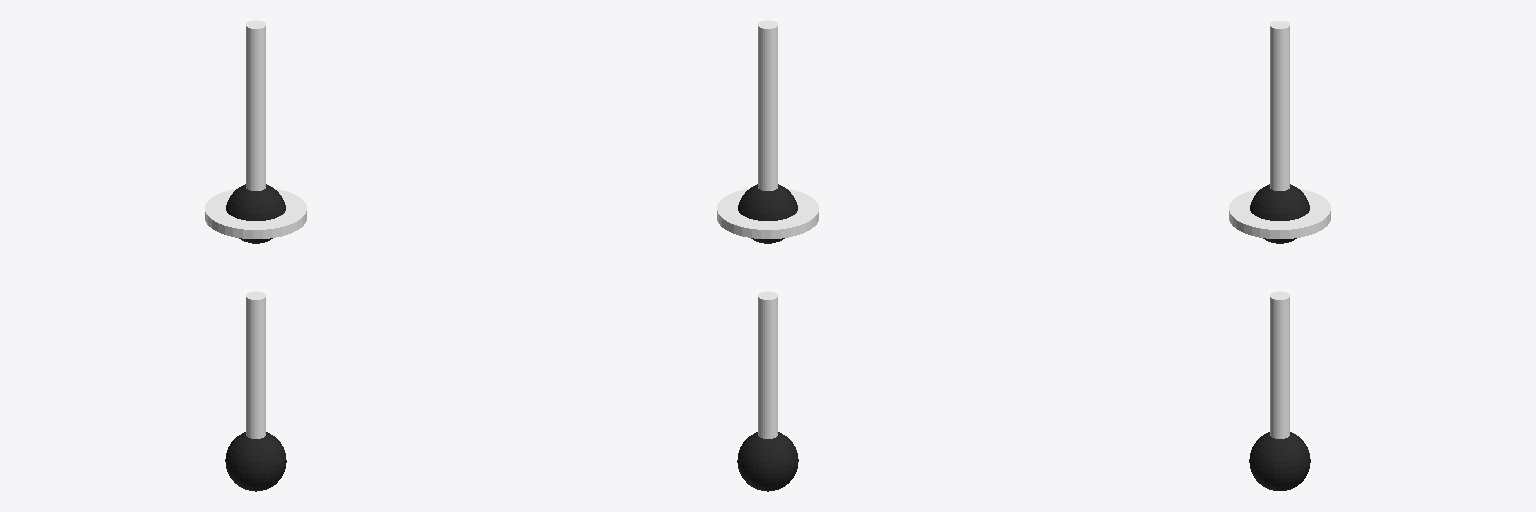
The robot description file, URDF, robot "arm":
<?xml version="1.0"?>
<robot name="arm">

  <!--Links-->
  <link name="base_link">
    <visual>
      <geometry>
        <cylinder length="0.01" radius="0.05"/>
      </geometry>
      <material name="white">
        <color rgba="1 1 1 1"/>
      </material>
    </visual>
  </link>

  <link name="link1">
    <visual>
      <geometry>
        <cylinder length="0.203" radius = "0.01"/>
      </geometry>
      <material name="white">
        <color rgba="1 1 1 1"/>
      </material>
      <origin xyz="0 0 0" rpy = "0 0 0"/>
    </visual>
  </link>

  <link name="link2">
     <visual>
      <geometry>
        <cylinder length="0.178" radius = "0.01"/>
      </geometry>
      <material name="white">
        <color rgba="1 1 1 1"/>
      </material>
      <origin xyz="0 0 0" rpy = "0 0 0"/>
    </visual>
  </link>  

  <link name="link3">
     <visual>
      <geometry>
        <cylinder length="0.178" radius = "0.01"/>
      </geometry>
      <material name="white">
        <color rgba="1 1 1 1"/>
      </material>
      <origin xyz="0 0 0" rpy = "0 0 0"/>
    </visual>
  </link>

  <link name="link4">
     <visual>
      <geometry>
        <cylinder length="0.178" radius = "0.01"/>
      </geometry>
      <material name="white">
        <color rgba="1 1 1 1"/>
      </material>
      <origin xyz="0 0 0" rpy = "0 0 0"/>
    </visual>
  </link>

  <link name="tool0"/>

  <link name="joint_1">
    <visual>
      <geometry>
       <sphere radius="0.03"/>
      </geometry>
      <material name="gray">
        <color rgba="0.2 0.2 0.2 1"/>
      </material>
        <origin xyz="0 0 0" rpy = "0 0 0"/>
    </visual>
  </link>
  
  <link name="joint_2">
    <visual>
      <geometry>
       <sphere radius="0.03"/>
      </geometry>  
      <material name="gray">
        <color rgba="0.2 0.2 0.2 1"/>
      </material>
      <origin xyz="0 0 0" rpy = "0 0 0"/>
    </visual>
  </link>
  <link name="joint_3">
    <visual>
      <geometry>
       <sphere radius="0.03"/>
      </geometry>  
      <material name="gray">
        <color rgba="0.2 0.2 0.2 1"/>
      </material>
      <origin xyz="0 0 0" rpy = "0 0 0"/>
    </visual>
  </link>

  <link name="joint_4">
    <visual>
      <geometry>
       <sphere radius="0.03"/>
      </geometry>  
      <material name="gray">
        <color rgba="0.2 0.2 0.2 1"/>
      </material>
      <origin xyz="0 0 0" rpy = "0 0 0"/>
    </visual>
  </link>
  
  <!--Joints-->
  <joint name="joint_1" type="revolute">
    <axis xyz="0 0 1"/>
    <parent link="base_link"/>
    <child link="joint_1"/>
    <origin xyz="0 0 0" rpy = "0 0 0"/>
    <limit effort="1000.0" lower="-1.62" upper="1.62" velocity="0.5"/>
  </joint>
  
  <joint name="joint_2" type="revolute">
    <axis xyz="0 0 1"/>
    <parent link="joint_1"/>
    <child link="joint_2"/>
    <origin xyz="0 0 0" rpy = "0 0 0"/>
    <limit effort="1000.0" lower="-0.96" upper="2.182" velocity="0.5"/>
  </joint>

  <joint name="joint_3" type="prismatic">
    <axis xyz="0 0 1"/>
    <parent link="joint_2"/>
    <child link="joint_3"/>
    <origin xyz="0 0 0" rpy = "0 0 0"/>
    <limit effort="1000.0" lower="-0.356" upper="-0.178" velocity="0.5"/>
  </joint>

  <joint name="joint_4" type="revolute">
    <axis xyz="0 1 0"/>
    <parent link="joint_3"/>
    <child link="joint_4"/>
    <origin xyz="0 0 0" rpy = "0 0 0"/>
    <limit effort="1000.0" lower="-1.62" upper="1.62" velocity="0.5"/>
  </joint>

  <joint name="link1_to_joint_1" type="fixed">
    <parent link="joint_1"/>
    <child link="link1"/>
    <origin xyz="0 0 0.1015" rpy = "0 0 0"/>
  </joint>

  <joint name="link2_to_joint_2" type="fixed">
    <parent link="joint_2"/>
    <child link="link2"/>
    <origin xyz="0 0 0.089" rpy = "0 0 0"/>
  </joint>

 <joint name="link3_to_joint_3" type="fixed">
    <parent link="joint_3"/>
    <child link="link3"/>
    <origin xyz="0 0 0.089" rpy = "0 0 0"/>
  </joint>
  
 <joint name="link4_to_joint_4" type="fixed">
    <parent link="joint_4"/>
    <child link="link4"/>
    <origin xyz="0 0 0.089" rpy = "0 0 0"/>
  </joint>

  <joint name="joint_4_to_tool0" type="fixed">
    <parent link="joint_4"/>
    <child link="tool0"/>
    <origin xyz="0 0 0" rpy = "0 0 0"/>
  </joint>


</robot>

--- What the picture shows (computed from the rendered views, not written in the file) ---
3 views of the same robot in one strip: view 1: azimuth 30°, elevation 25°; view 2: azimuth 150°, elevation 25°; view 3: azimuth 270°, elevation 25° (orthographic).
Robot: arm — 10 links, 9 joints (3 revolute, 1 prismatic, 5 fixed); root link base_link; default pose: all joints at 0 but 1 set to mid-range because 0 is outside their limits (joint_3 = -0.267).
Links seen in each view (by area): view 1: link3, joint_3, base_link, link1, joint_1, link2; view 2: link3, joint_3, base_link, link1, joint_1, link2; view 3: link3, joint_3, base_link, link1, joint_1, link2.
Boxes of the visible links, box(x1,y1,x2,y2) form: link3: box(246, 291, 265, 438); joint_3: box(225, 432, 286, 491); base_link: box(205, 188, 306, 238); link1: box(246, 20, 265, 190); joint_1: box(226, 184, 285, 243); link2: box(246, 50, 265, 190); link3: box(758, 291, 777, 438); joint_3: box(737, 432, 798, 491); base_link: box(717, 188, 818, 238); link1: box(758, 20, 777, 190); joint_1: box(738, 184, 797, 243); link2: box(758, 50, 777, 190); link3: box(1270, 291, 1289, 438); joint_3: box(1249, 432, 1310, 490); base_link: box(1229, 188, 1330, 238); link1: box(1270, 21, 1289, 190); joint_1: box(1250, 184, 1309, 243); link2: box(1270, 50, 1289, 190).
Size in the robot's own frame: 0.1 by 0.1 by 0.5 metres.
Geometry: primitives only (box / cylinder / sphere), no mesh files.
